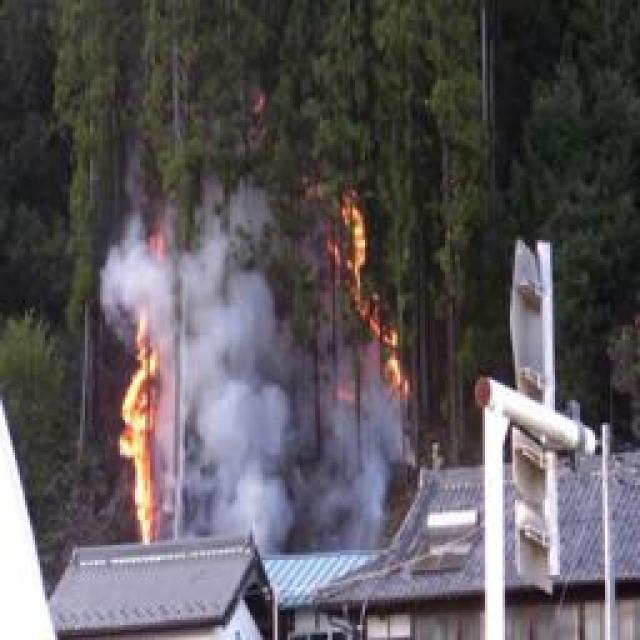Fire: (327, 193, 414, 408), (112, 320, 168, 548)
Smoke: (96, 177, 419, 561)
